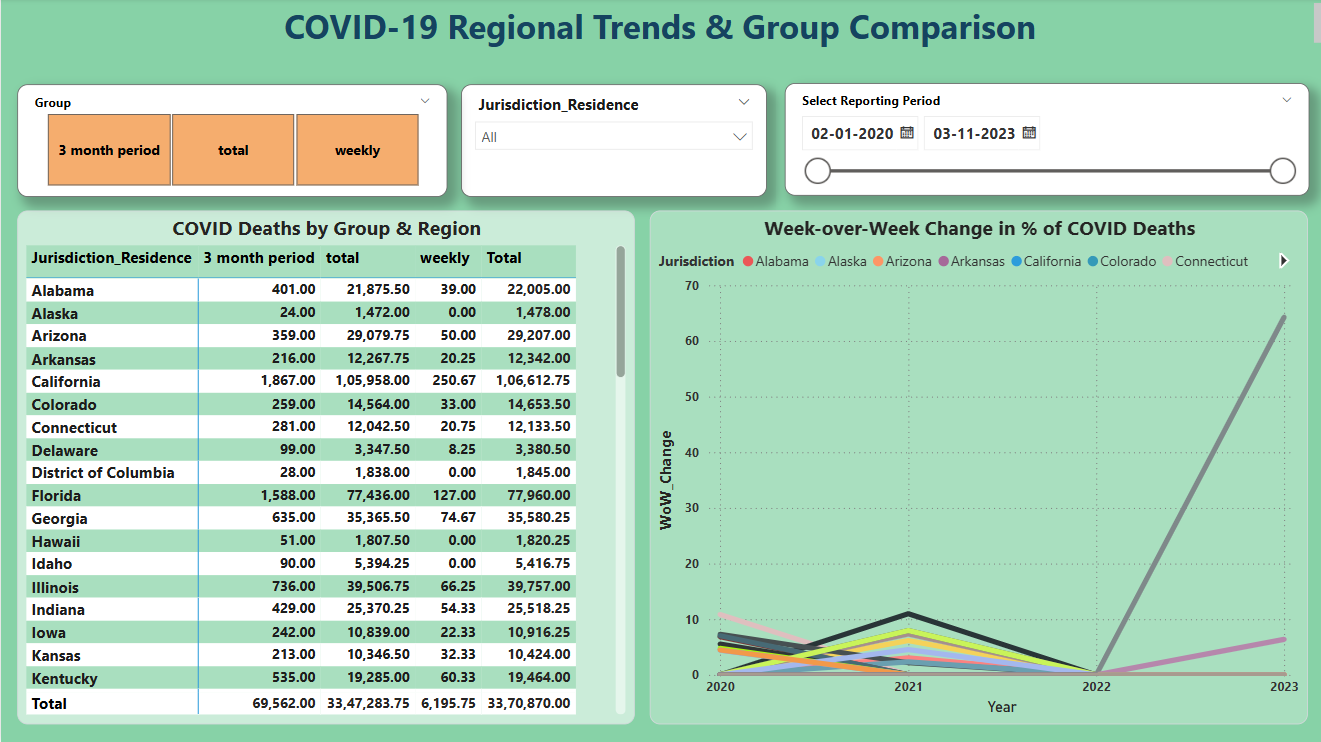

What the dashboard file says about the page in this screenshot:
{"tool":"powerbi","page":{"name":"2. Regional Trends","canvas":[1280,720],"ordinal":1},"visuals":[{"type":"textbox","box":[0,0,1280.3,57.6],"z":0},{"type":"slicer","fields":{"Values":["DA_Data.Jurisdiction_Residence"]},"box":[444,83.2,295.6,108.6],"z":1000},{"type":"slicer","fields":{"Values":["DA_Data.Group"]},"box":[15.7,83.2,415,108.6],"z":2000},{"type":"slicer","fields":{"Values":["DA_Data.data_period_end"]},"box":[755.9,82.4,506.1,109.1],"z":3000},{"type":"pivotTable","title":"COVID Deaths by Group & Region","fields":{"Rows":["DA_Data.Jurisdiction_Residence"],"Columns":["DA_Data.Group"],"Values":["DA_Data.Avg_Weekly_Deaths_Last4"]},"box":[15.2,205.5,596.1,495.9],"z":4000},{"type":"lineChart","title":"Week-over-Week Change in % of COVID Deaths","fields":{"Category":["DA_Data.data_period_start.Variation.Date Hierarchy.Year","DA_Data.data_period_start.Variation.Date Hierarchy.Quarter","DA_Data.data_period_start.Variation.Date Hierarchy.Month","DA_Data.data_period_start.Variation.Date Hierarchy.Day"],"Y":["DA_Data.WoW_Change"],"Series":["DA_Data.Jurisdiction_Residence"]},"box":[626.6,205.5,635.4,495.9],"z":5000}]}

Visuals, with their boxes in screenshot pixels (x1, y1, x2, y2), scaled from the page's 1280x720 canvas onto the 1321x742 screenshot:
textbox: x1=0 y1=0 x2=1320 y2=59
slicer - DA_Data.Jurisdiction_Residence: x1=458 y1=86 x2=763 y2=198
slicer - DA_Data.Group: x1=16 y1=86 x2=444 y2=198
slicer - DA_Data.data_period_end: x1=780 y1=85 x2=1302 y2=197
"COVID Deaths by Group & Region" pivotTable: x1=16 y1=212 x2=631 y2=723
"Week-over-Week Change in % of COVID Deaths" lineChart: x1=647 y1=212 x2=1302 y2=723
